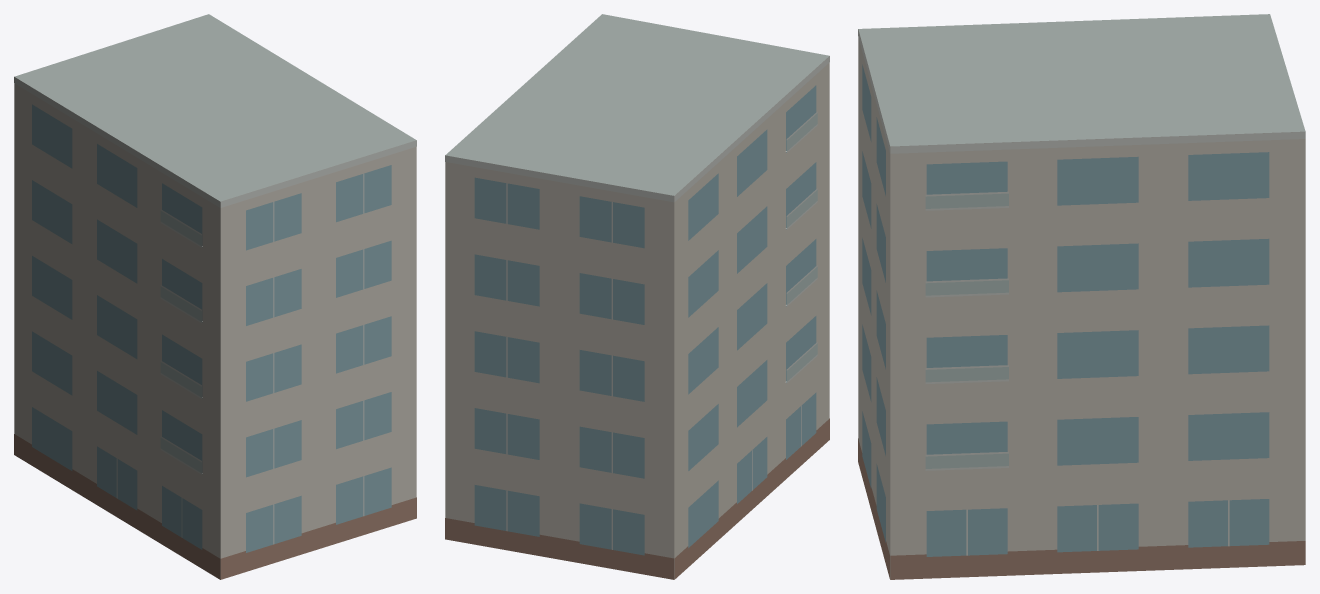
Rendered from survey-upis-32884521.glb.
3 renders of one model, left to right at view 1: azimuth 30°, elevation 25°; view 2: azimuth 150°, elevation 25°; view 3: azimuth 270°, elevation 25°, orthographic. The views are drawn at different scales.
Visible parts, largest first — view 1: survey-upis-32884521.tmp; view 2: survey-upis-32884521.tmp; view 3: survey-upis-32884521.tmp.
Boxes of the visible parts, x1,y1,x2,y2 form: survey-upis-32884521.tmp: (14, 14, 416, 579); survey-upis-32884521.tmp: (445, 14, 829, 579); survey-upis-32884521.tmp: (858, 14, 1305, 579).
Bounding box in the file's own units: 9.45 × 14.4 × 13.48.
